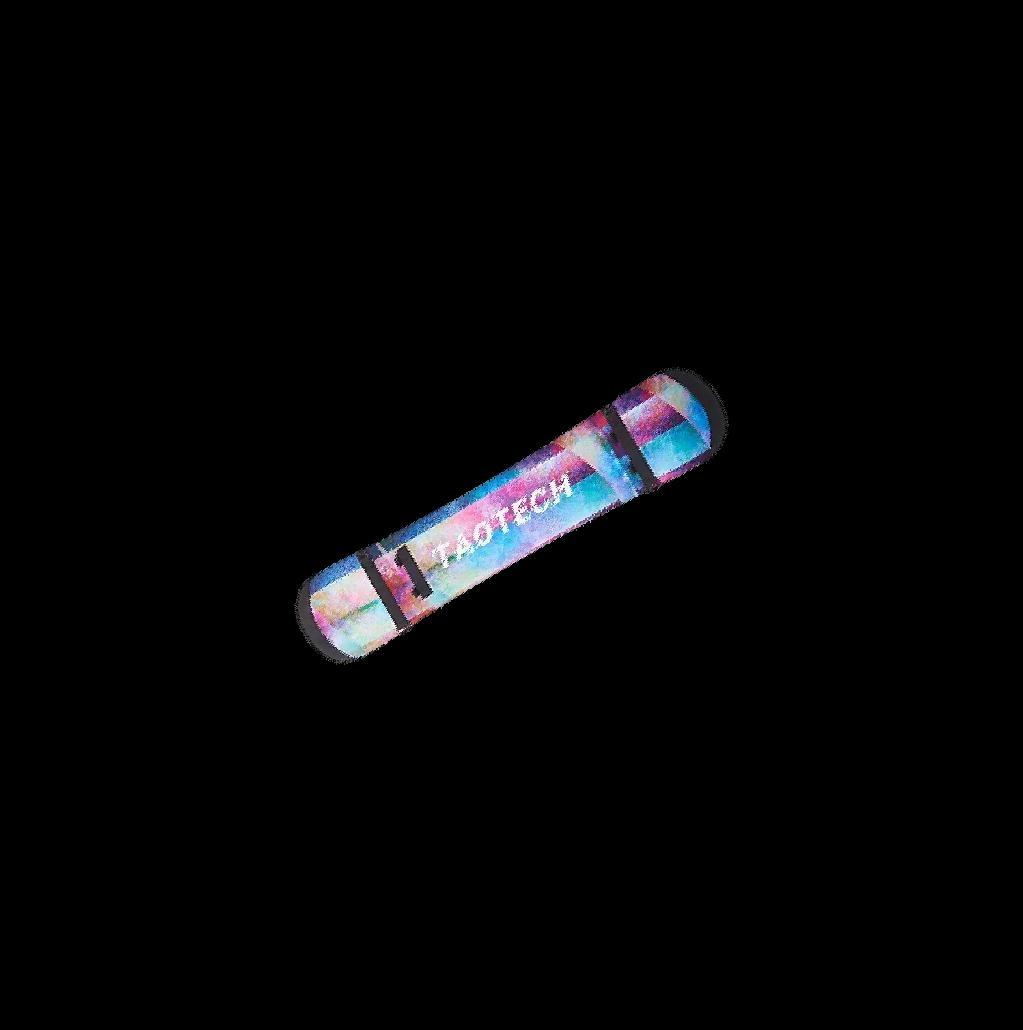Snowboard: (272, 358, 738, 678)
